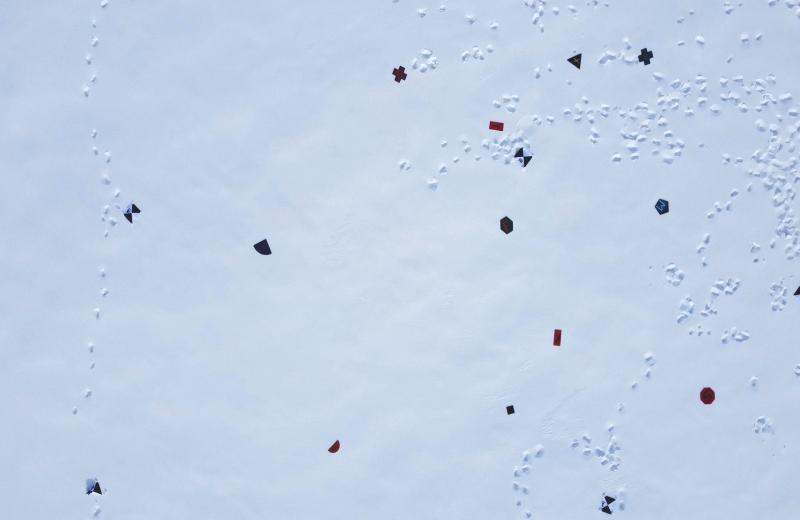Cross: (391, 64, 407, 84), (638, 47, 654, 67)
Hexagon: (501, 216, 514, 235)
Octagon: (700, 386, 716, 406)
Pentagon: (654, 197, 672, 215)
Quarter Circle: (254, 239, 272, 257)
Rectangle: (550, 327, 564, 348), (488, 118, 504, 136)
Semi Circle: (327, 438, 344, 454)
Square: (506, 405, 515, 416)
Triangle: (566, 51, 583, 69)
